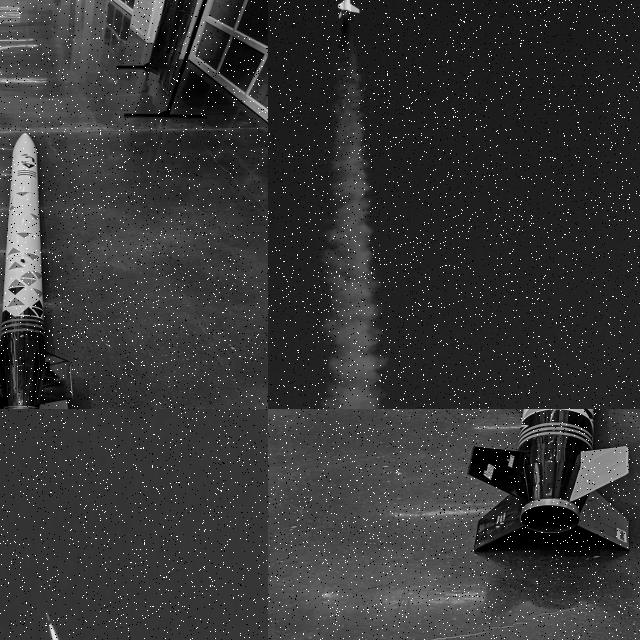Rocket: (466, 409, 630, 551), (0, 132, 73, 409), (337, 0, 359, 18), (46, 611, 52, 627)
